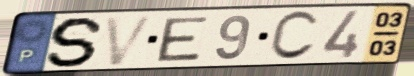4: (320, 8, 363, 61)
9: (214, 14, 252, 62)
C: (266, 9, 322, 63)
E: (155, 15, 211, 63)
S: (44, 15, 108, 69)
V: (103, 13, 159, 68)
